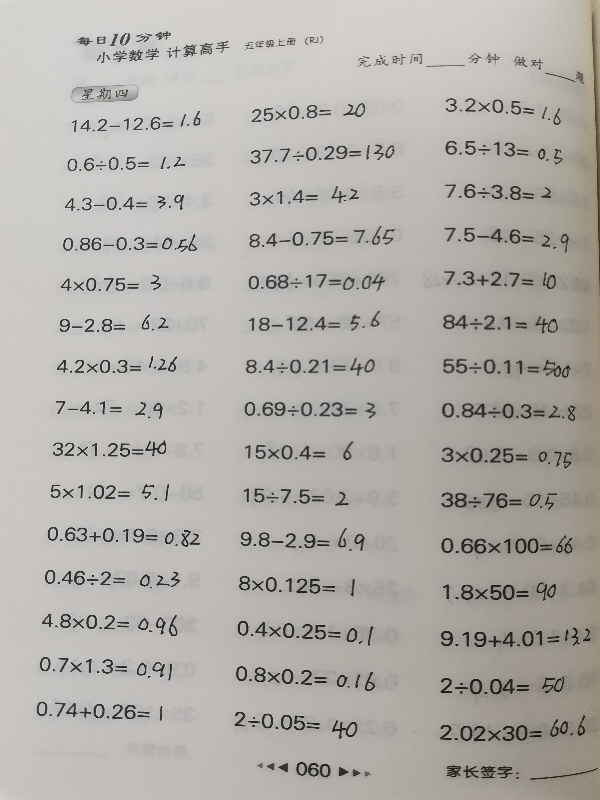equation: (436, 716, 596, 745), (436, 532, 576, 563), (40, 566, 188, 595), (436, 624, 594, 651), (38, 610, 181, 639), (245, 223, 398, 250), (43, 524, 203, 549), (231, 664, 378, 691), (237, 525, 369, 555), (233, 619, 377, 646), (35, 653, 176, 680), (55, 309, 179, 339), (234, 573, 362, 602), (246, 141, 398, 165), (245, 310, 384, 336), (245, 270, 389, 295), (437, 443, 575, 469), (440, 224, 572, 251), (437, 398, 579, 423), (58, 232, 200, 257), (231, 710, 361, 737), (439, 353, 574, 379), (240, 396, 379, 421), (242, 355, 379, 380), (441, 137, 567, 164), (442, 95, 565, 122), (436, 673, 568, 698), (440, 578, 560, 605), (67, 112, 204, 135), (438, 489, 561, 514), (438, 311, 561, 336), (32, 699, 165, 722), (53, 354, 180, 378), (47, 481, 173, 505), (49, 437, 170, 461), (61, 191, 187, 214), (440, 267, 559, 291), (52, 397, 166, 422), (246, 184, 362, 208), (248, 100, 369, 123), (241, 441, 361, 464), (63, 152, 188, 174), (440, 180, 554, 203), (239, 485, 352, 508), (57, 272, 164, 296)
